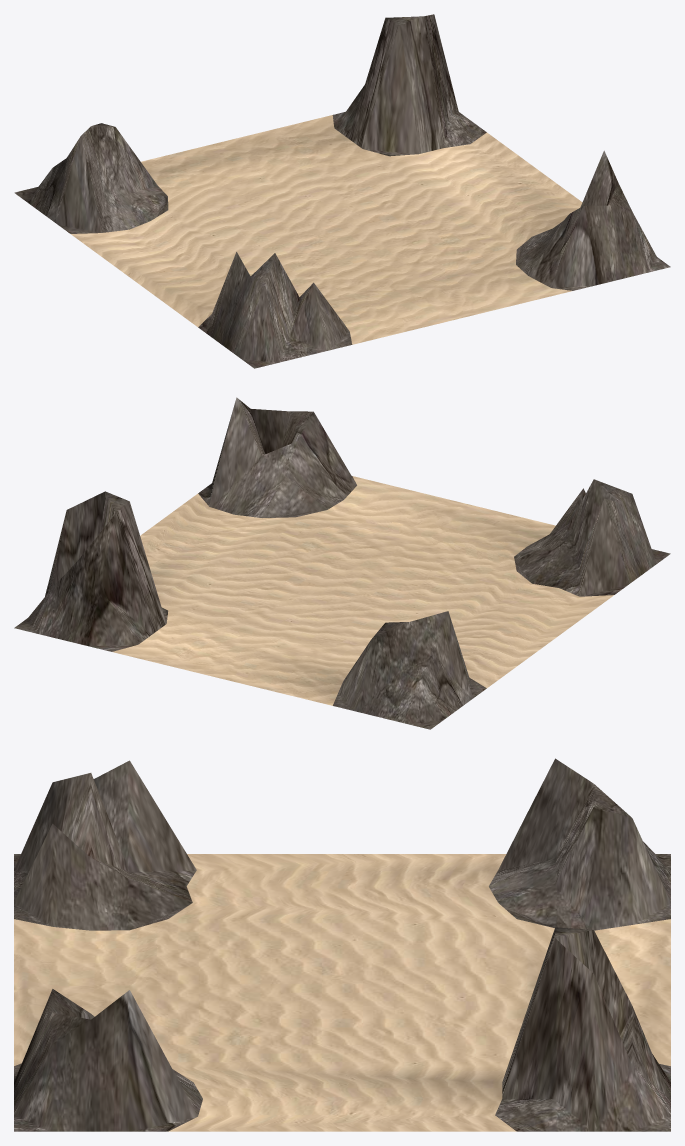
File: crossroad.fbx
3 views of the same model, one above another, from view 1: azimuth 30°, elevation 25°; view 2: azimuth 150°, elevation 25°; view 3: azimuth 270°, elevation 25° (orthographic). The views are drawn at different scales.
Parts seen in each view (by area): view 1: crossroad; view 2: crossroad; view 3: crossroad.
Part boxes in pixels (box(x1,y1,x2,y2)): crossroad: box(14, 14, 670, 368); crossroad: box(14, 397, 670, 729); crossroad: box(14, 758, 670, 1131).
Bounding box in the file's own units: 500 × 135 × 500.
